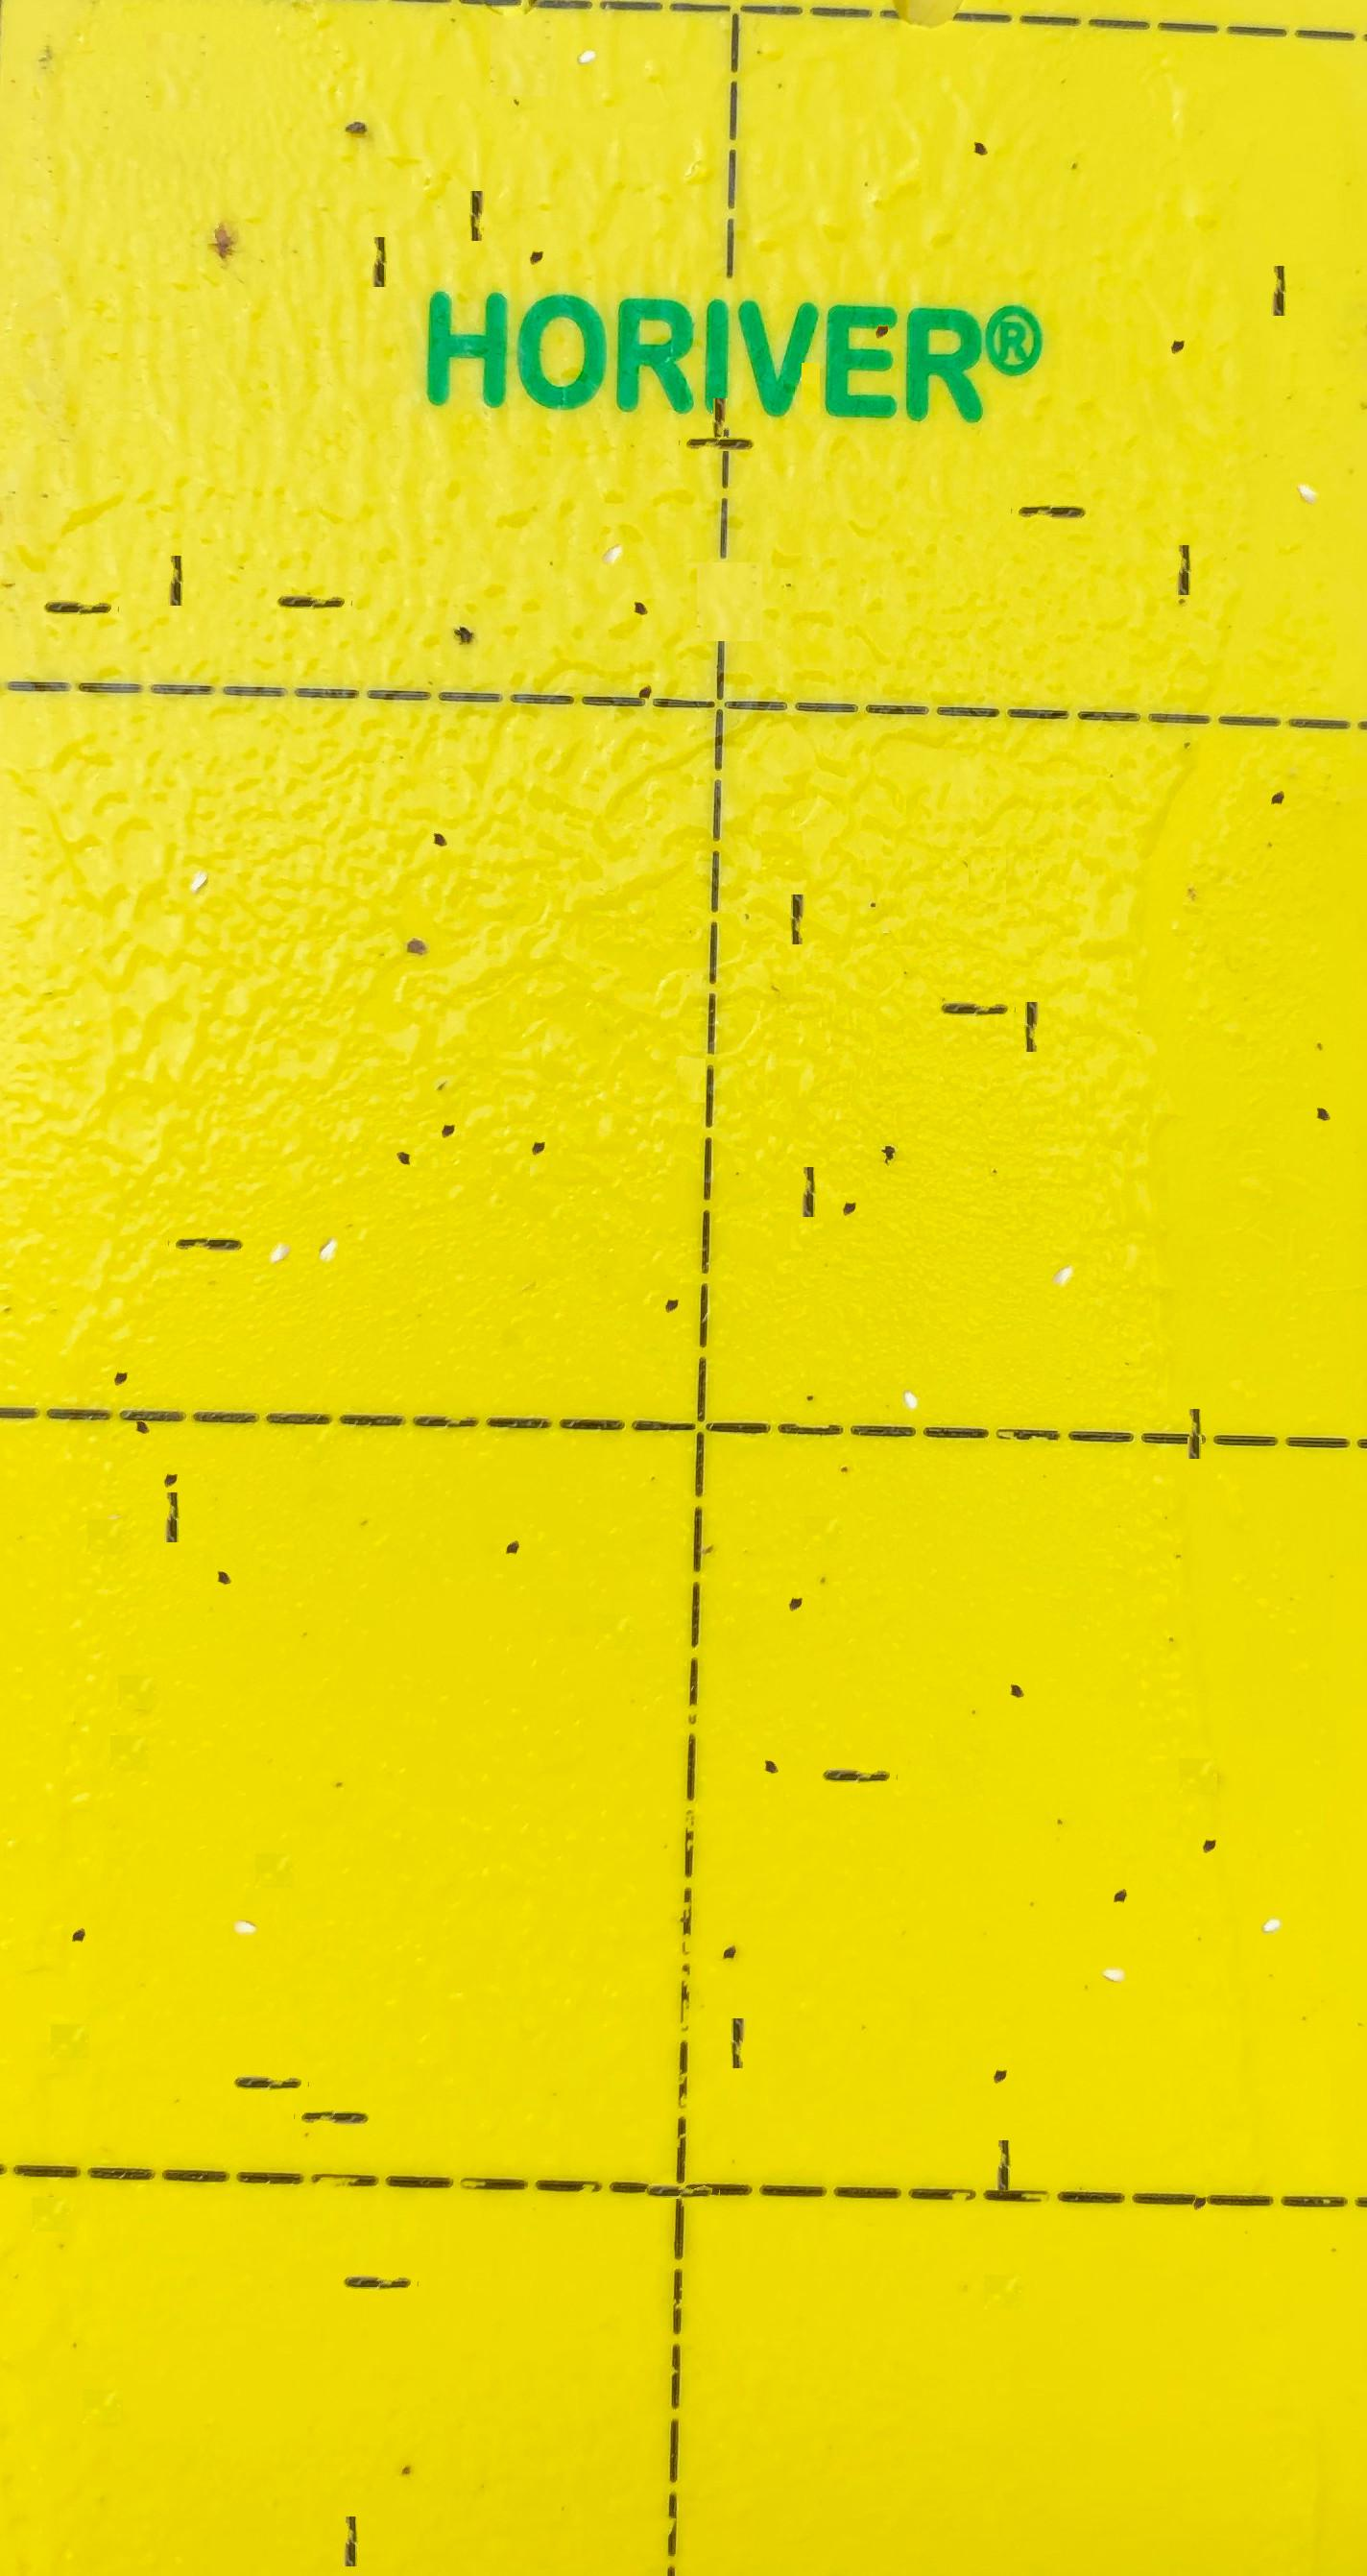white_fly: (1251, 1854, 1294, 1903), (890, 1329, 931, 1377), (1041, 1211, 1084, 1256), (176, 811, 218, 855), (309, 1186, 351, 1230), (1287, 429, 1330, 474), (591, 491, 634, 535), (259, 1187, 302, 1230), (1094, 1920, 1135, 1958), (223, 1869, 264, 1906)
